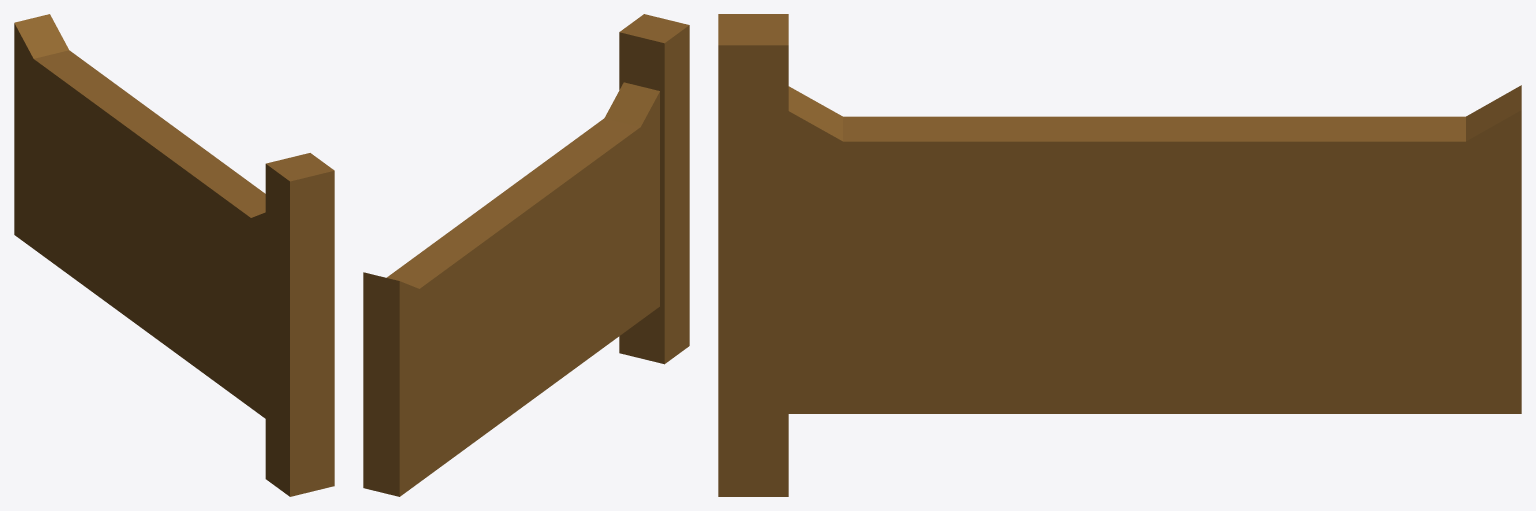
The model's file is fence_02.fbx.
3 renders of one model, left to right at view 1: azimuth 30°, elevation 25°; view 2: azimuth 150°, elevation 25°; view 3: azimuth 270°, elevation 25°, orthographic. The views are drawn at different scales.
Visible parts, largest first — view 1: fence_02; view 2: fence_02; view 3: fence_02.
Part boxes in pixels (x1,y1,x2,y2): fence_02: (14, 14, 334, 496); fence_02: (363, 14, 689, 496); fence_02: (718, 14, 1521, 496).
Bounding box in the file's own units: 20.05 × 135 × 218.
